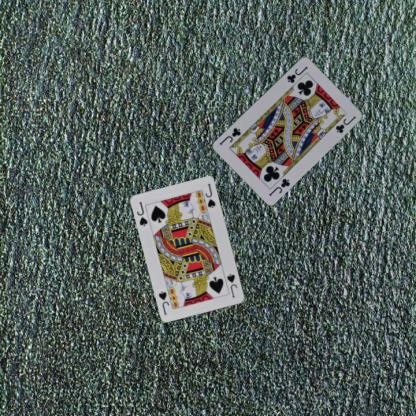Jc: (284, 63, 309, 84), (266, 176, 291, 197)
Js: (135, 199, 149, 228), (224, 271, 238, 299)
